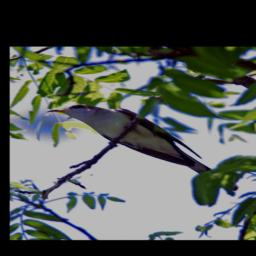Cuckoo: (46, 104, 239, 191)
